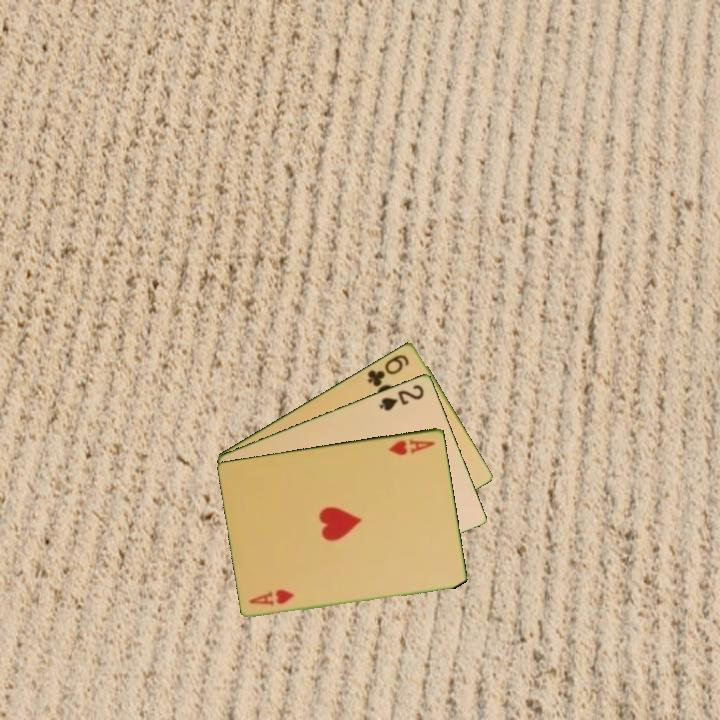2s: (376, 380, 427, 413)
6c: (364, 350, 412, 389)
Ah: (385, 435, 438, 458), (245, 587, 297, 608)
